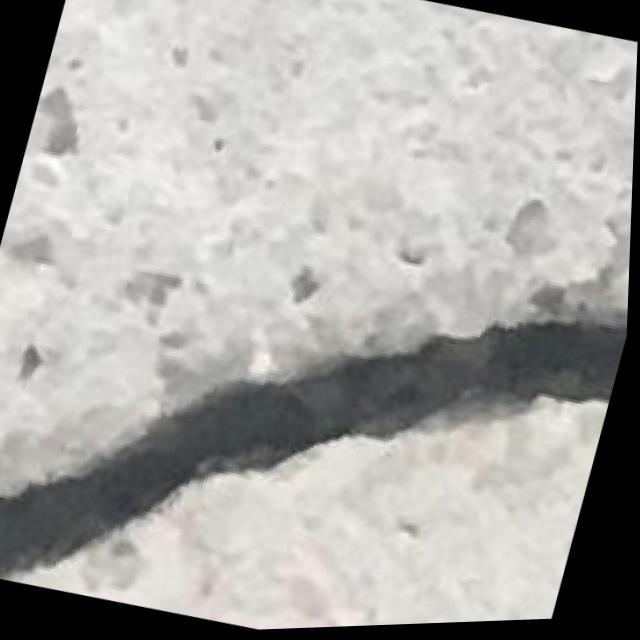Crack: (0, 176, 634, 640)
